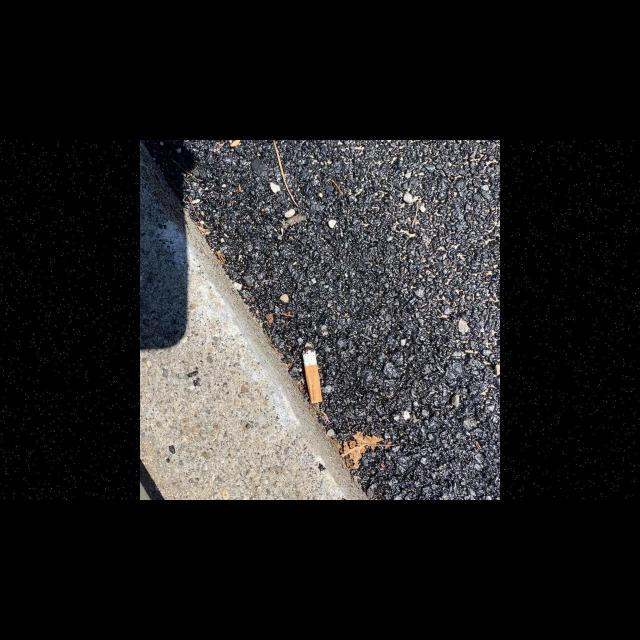cigarette: (302, 349, 323, 403)
